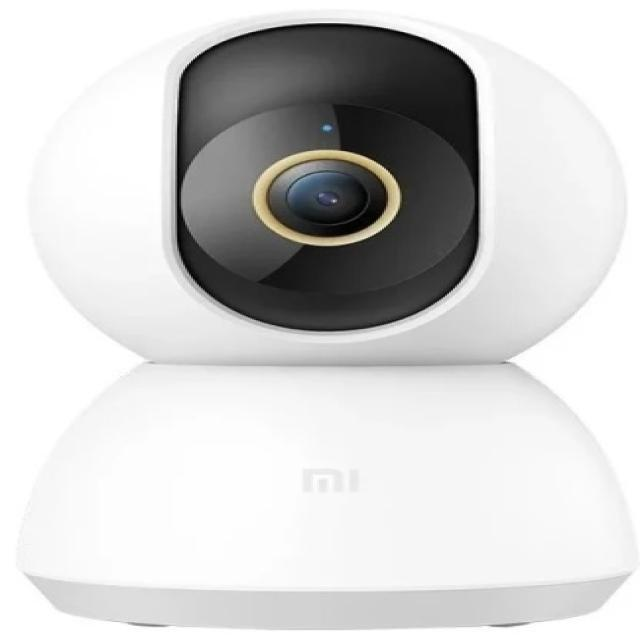hidden camera: (176, 132, 485, 271)
